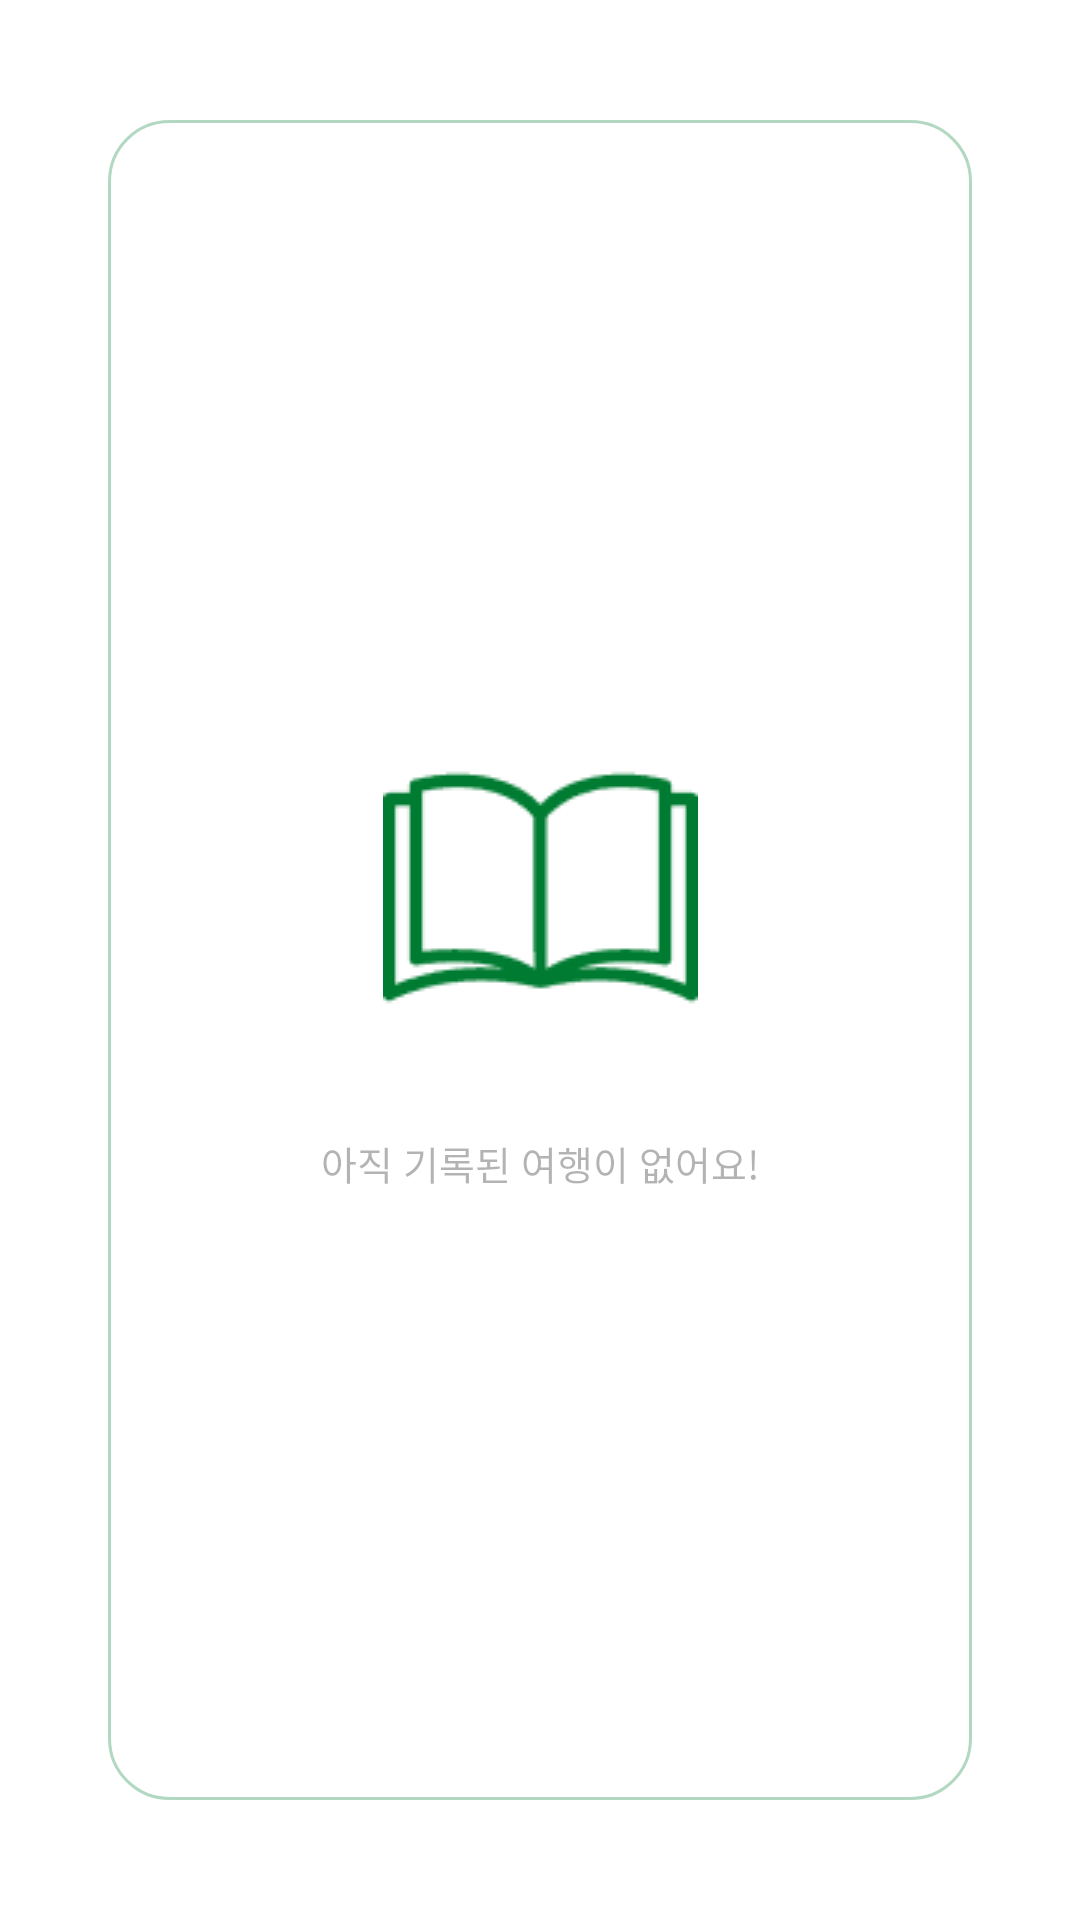

Icon bounding boxes for this 1080px×1920px phone screenshot, format (x1, y1, x2, y2):
home book: (383, 772, 698, 1003)
